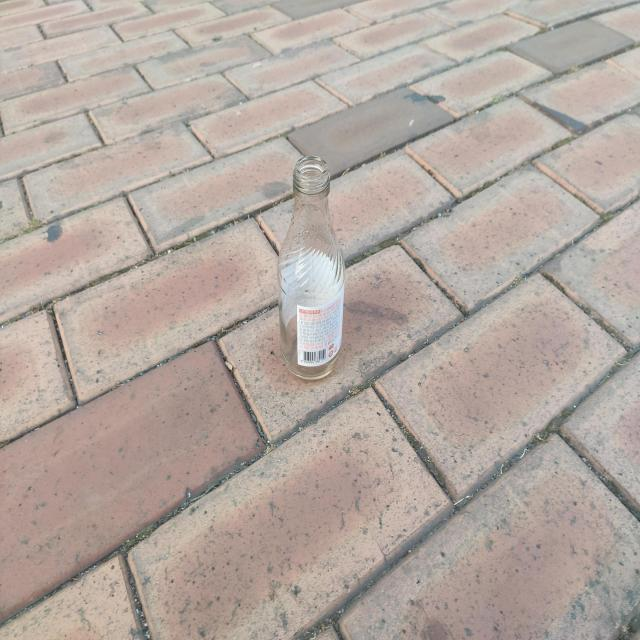glass: (278, 155, 345, 380)
